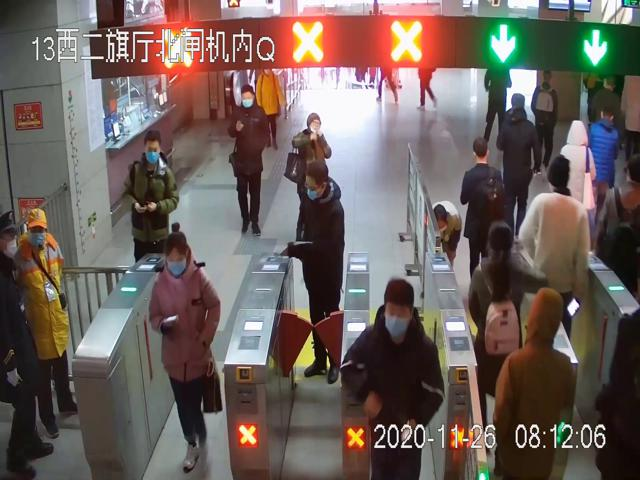person: (351, 277, 446, 480), (149, 222, 221, 471), (17, 209, 84, 439), (293, 163, 345, 386), (123, 128, 178, 259), (498, 91, 543, 241), (228, 84, 270, 236), (460, 139, 504, 281)
